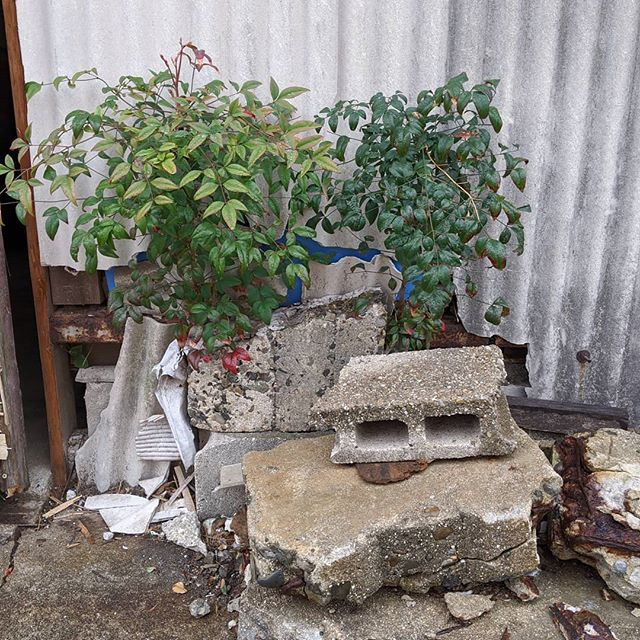debris: (88, 279, 640, 640)
vegetation: (38, 79, 488, 311)
